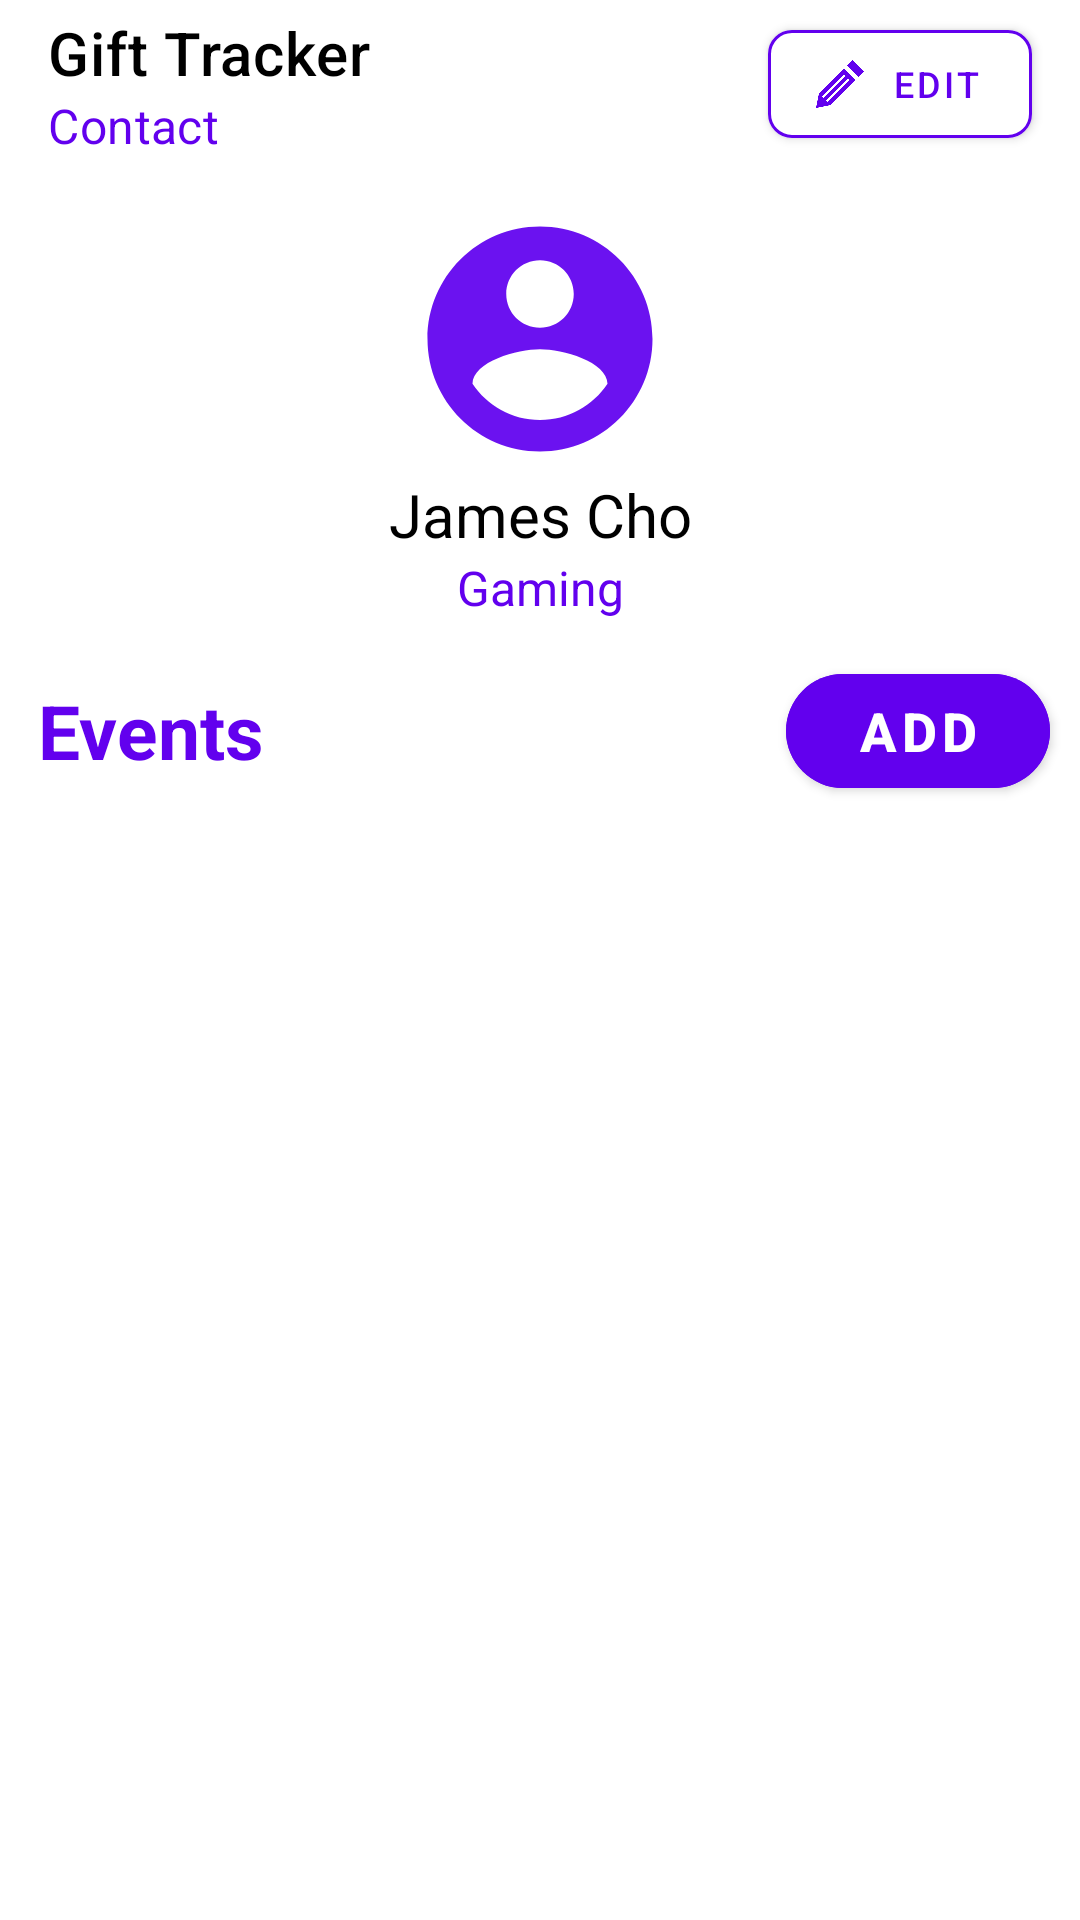

Where to tap for icons on this 1080px x 1920px app screen, as [x,y]:
account circle: [540,339]
